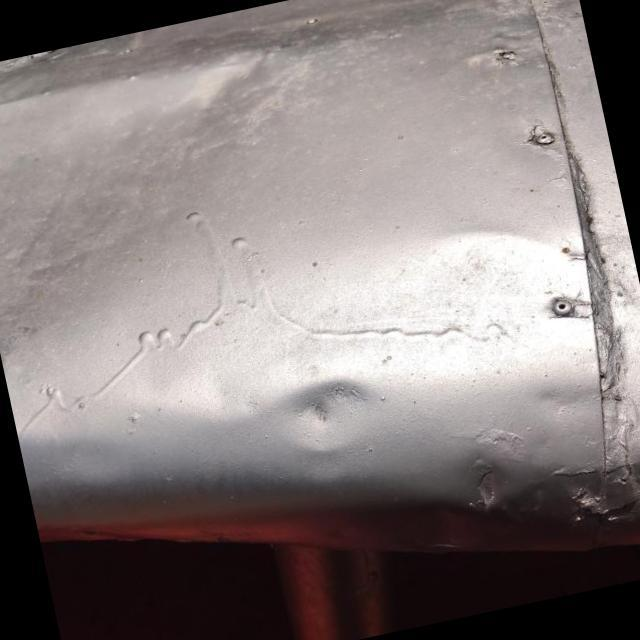Dent: (249, 334, 423, 500), (418, 418, 555, 546)
